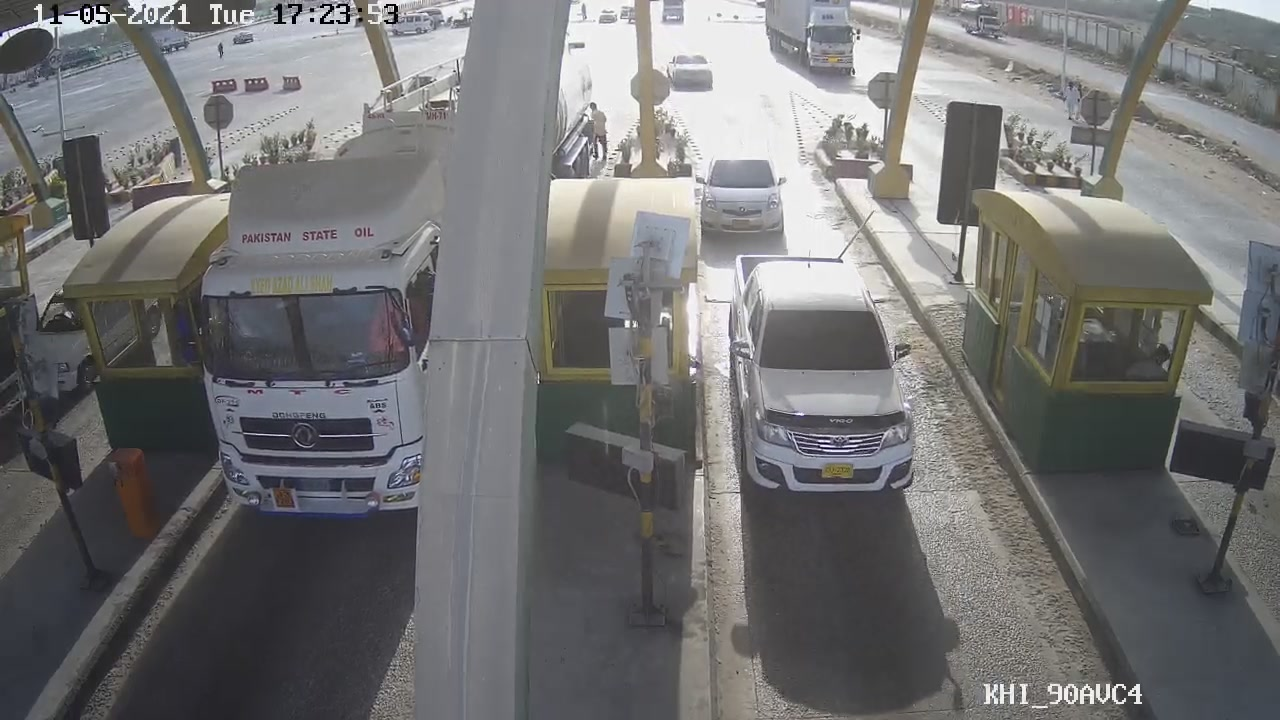F1: (716, 249, 948, 508)
